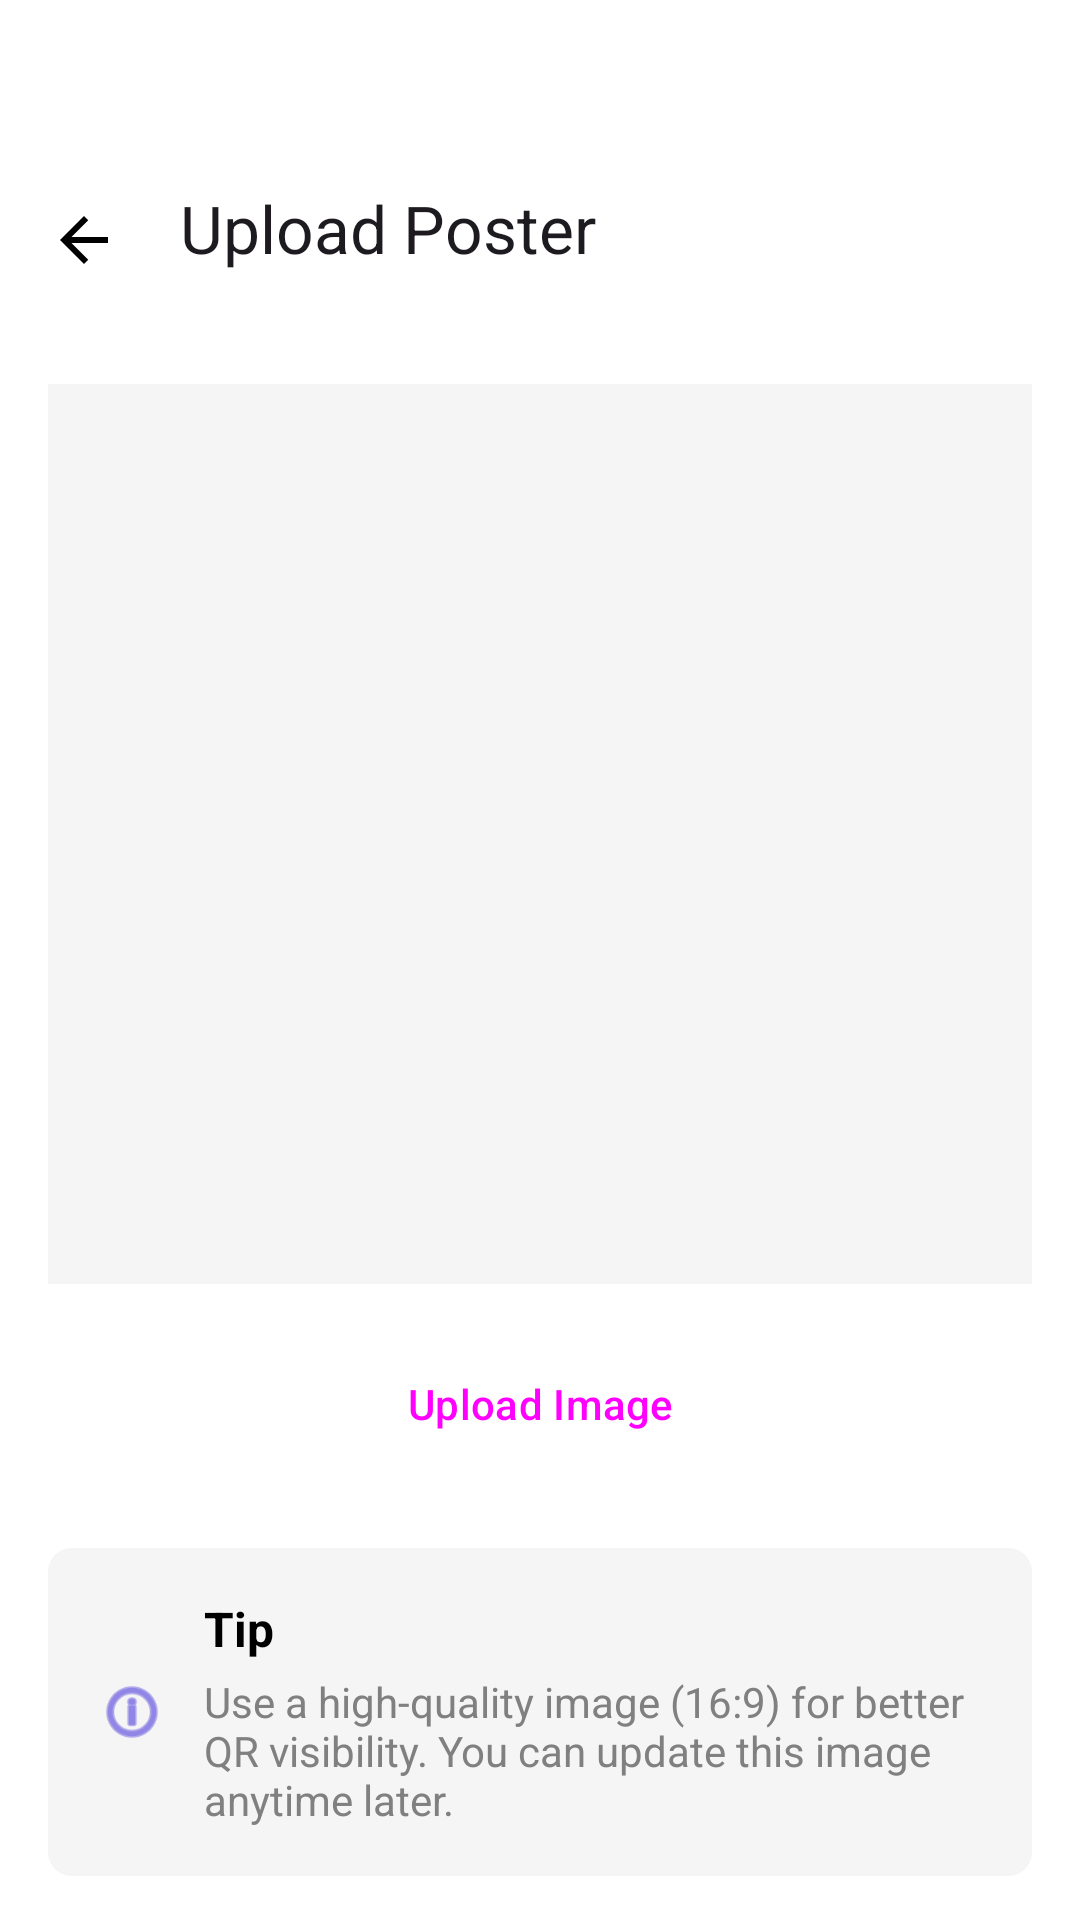

Icons on this 1080×1920 Android screen, each with the point to tap as (x,y):
info details: (132,1712)
